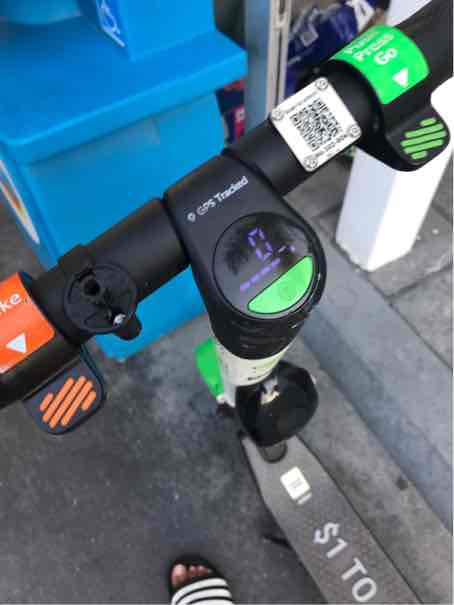scooter: (6, 17, 447, 575)
